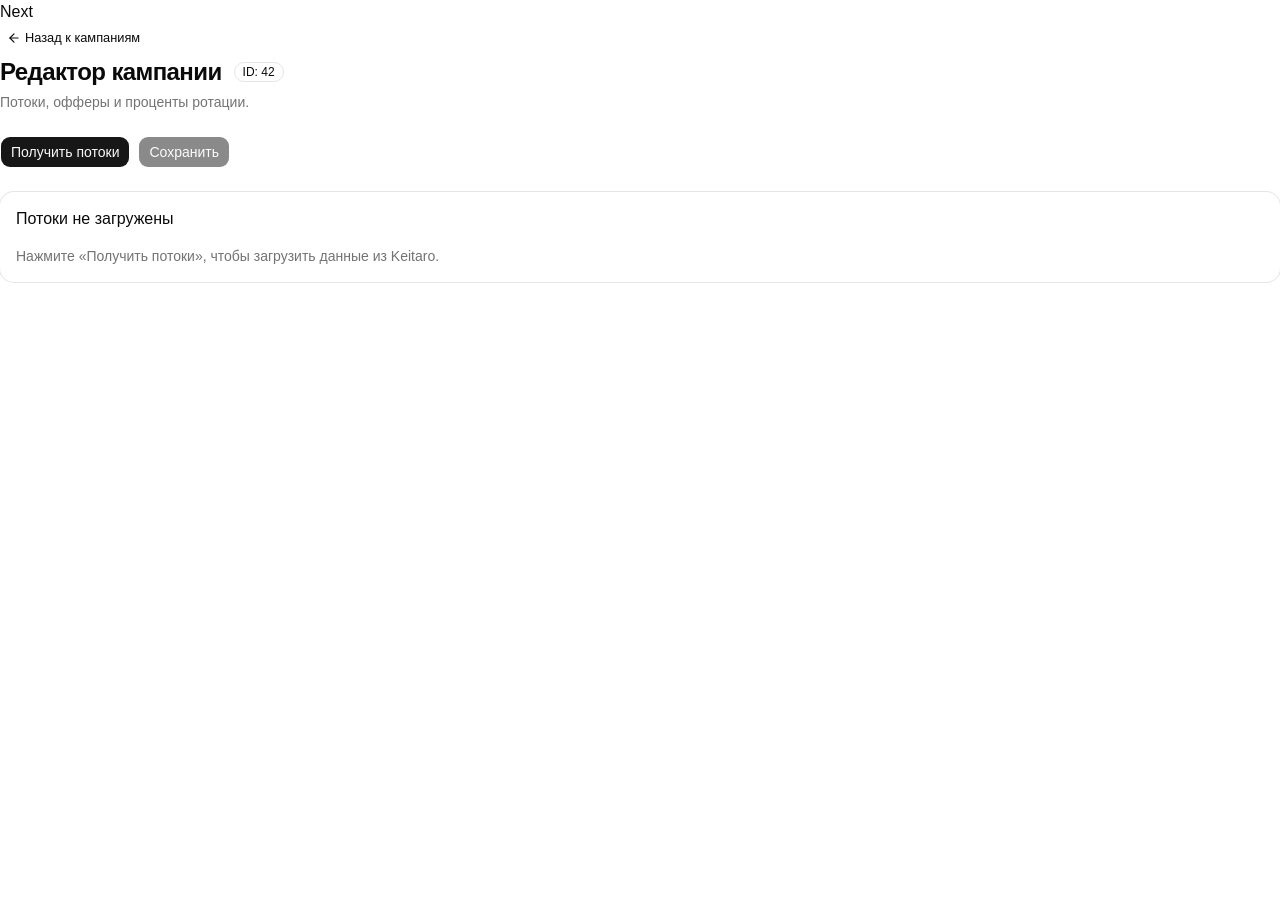
Test: CampaignEditPage › shows catalog failure with a retry and empty search feedback
Click the button "Получить потоки": (65, 152) [0, 136, 130, 168]
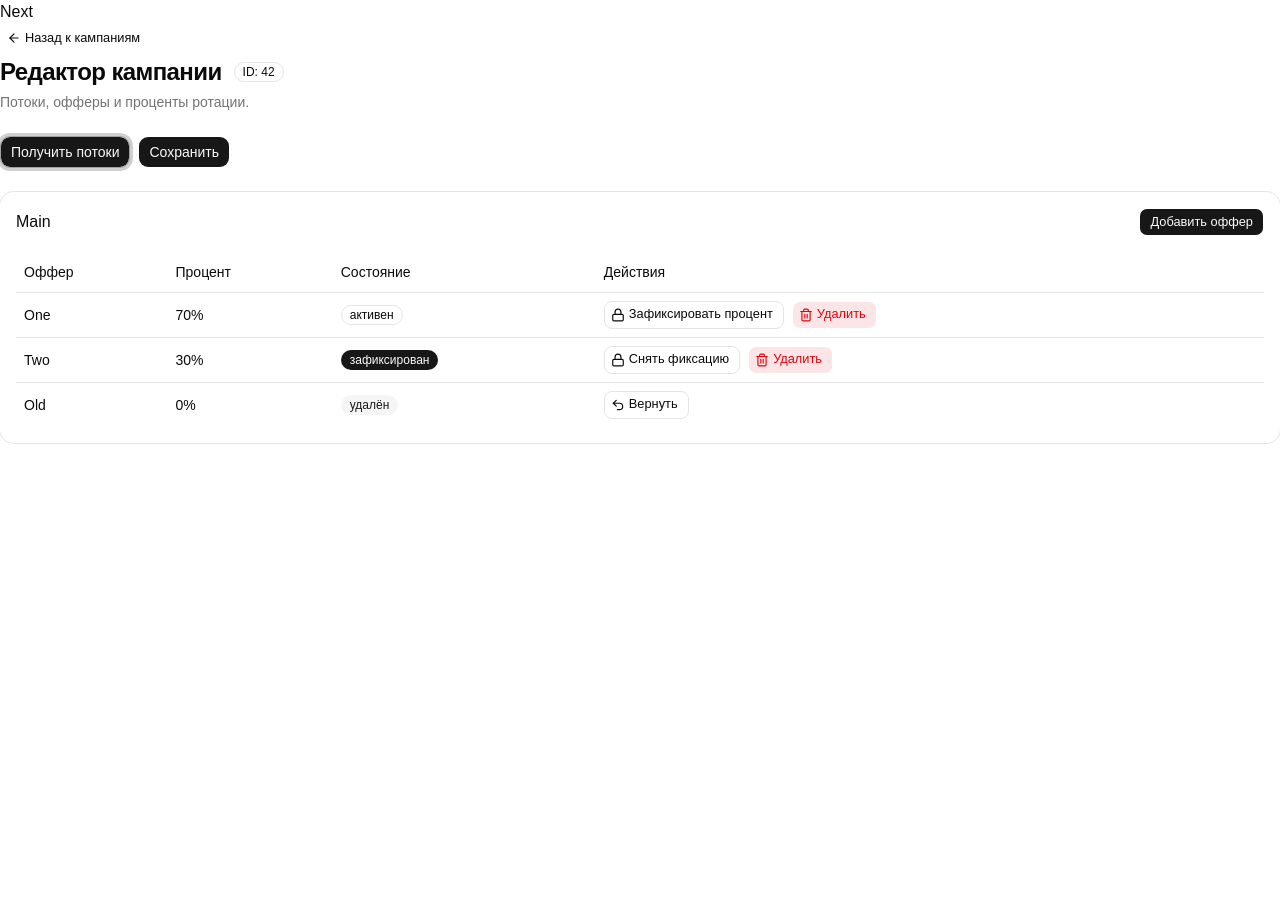
Click the button "Добавить оффер": (1202, 222) [1140, 208, 1264, 236]
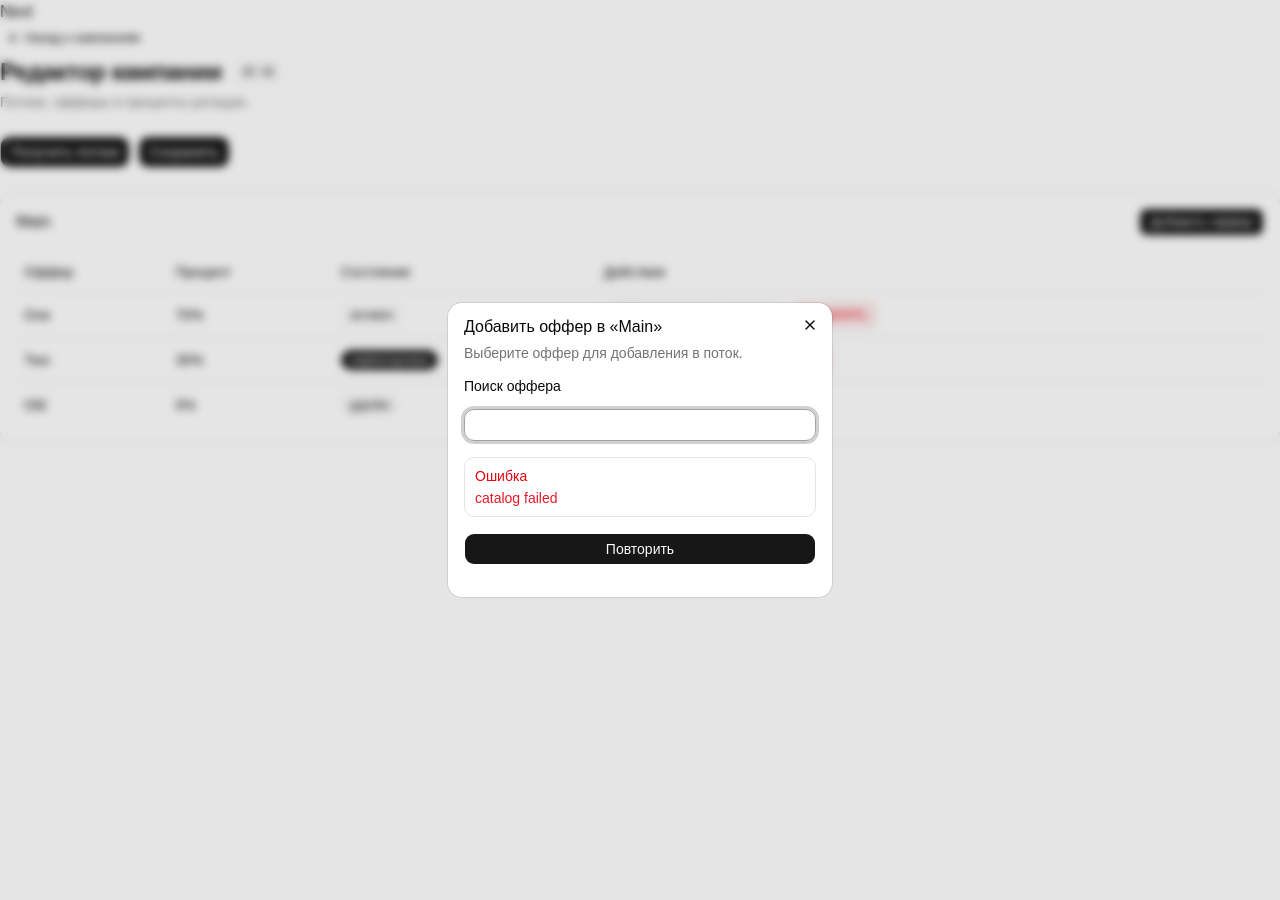
Expected: the text "catalog failed" is shown, [475, 490, 558, 506]
Click the button "Повторить": (640, 549) [464, 533, 816, 565]
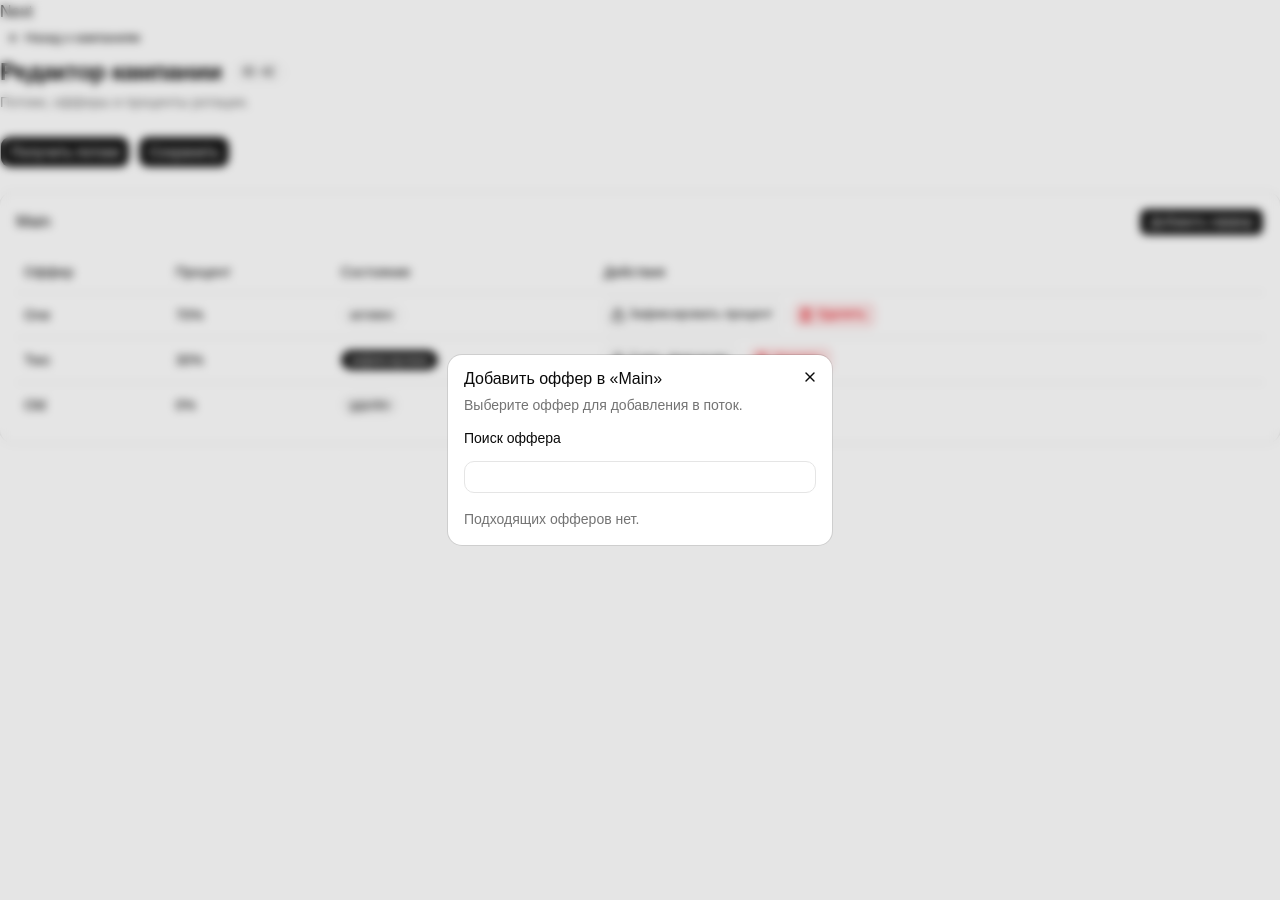
Expected: the text "Подходящих офферов нет." is shown, [464, 511, 639, 527]
